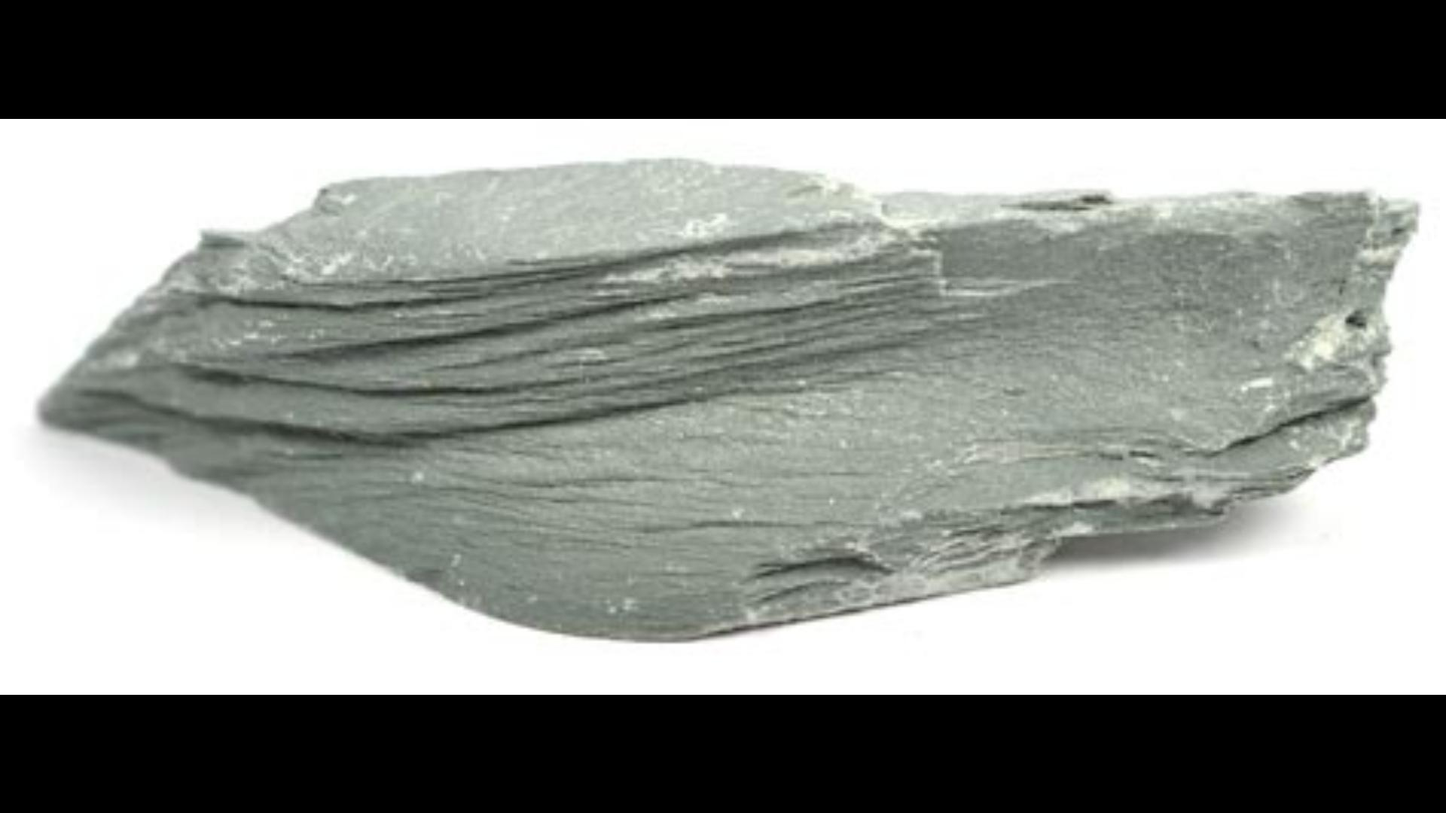rock: (43, 161, 1409, 634)
